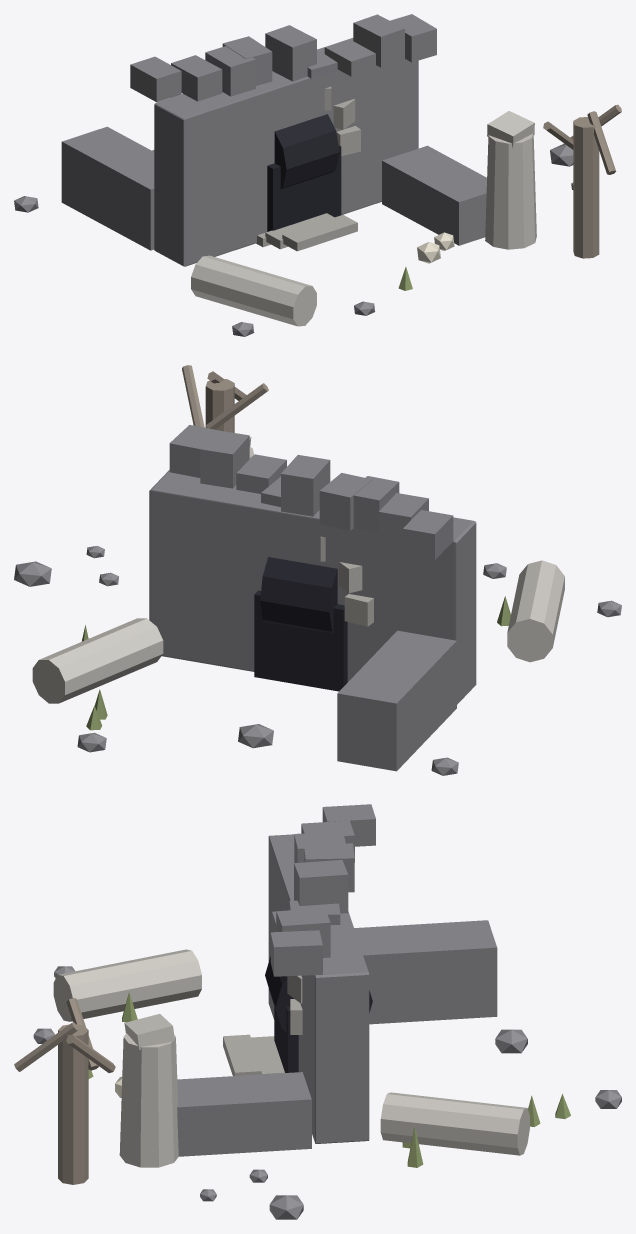
Rendered from dungeon.glb.
The picture shows the model from 3 angles, top to bottom: view 1: azimuth 30°, elevation 25°; view 2: azimuth 150°, elevation 25°; view 3: azimuth 270°, elevation 25°; orthographic projection. The views are drawn at different scales.
Parts seen in each view (by area): view 1: dg_wall, stub_L, stub_R, fcol0, bcol, dg_void_top, dead_trunk, dg_void, rag4, rag7, rag0, rag1 (+12 smaller); view 2: dg_wall, stub_L, fcol1, dg_void, dg_void_top, fcol0, rag4, rag7, rag0, rag3, rag2, rag8 (+9 smaller); view 3: dg_wall, stub_L, stub_R, fcol1, bcol, fcol0, dead_trunk, rag4, rag8, rag7, rag0, step0 (+11 smaller).
Part boxes in pixels (left/top/right/bottom): dg_wall: left=154, top=38, right=418, bottom=266; stub_L: left=61, top=126, right=154, bottom=250; stub_R: left=382, top=145, right=486, bottom=245; fcol0: left=191, top=255, right=316, bottom=326; bcol: left=485, top=134, right=536, bottom=249; dg_void_top: left=274, top=114, right=339, bottom=189; dead_trunk: left=573, top=117, right=599, bottom=258; dg_void: left=267, top=145, right=341, bottom=231; rag4: left=265, top=25, right=316, bottom=81; rag7: left=353, top=14, right=404, bottom=67; rag0: left=130, top=56, right=181, bottom=102; rag1: left=171, top=55, right=222, bottom=101; dg_wall: left=149, top=470, right=476, bottom=704; stub_L: left=337, top=630, right=456, bottom=771; fcol1: left=32, top=618, right=163, bottom=703; dg_void: left=254, top=590, right=347, bottom=691; dg_void_top: left=260, top=557, right=337, bottom=633; fcol0: left=507, top=560, right=564, bottom=662; rag4: left=281, top=455, right=330, bottom=516; rag7: left=200, top=430, right=249, bottom=488; rag0: left=403, top=510, right=453, bottom=559; rag3: left=319, top=473, right=372, bottom=530; rag2: left=353, top=476, right=399, bottom=532; rag8: left=169, top=425, right=216, bottom=477; dg_wall: left=268, top=834, right=369, bottom=1143; stub_L: left=354, top=920, right=497, bottom=1024; stub_R: left=177, top=1072, right=311, bottom=1156; fcol1: left=380, top=1092, right=529, bottom=1155; bcol: left=119, top=1033, right=178, bottom=1167; fcol0: left=53, top=949, right=201, bottom=1021; dead_trunk: left=58, top=1024, right=88, bottom=1184; rag4: left=294, top=860, right=348, bottom=913; rag8: left=270, top=930, right=322, bottom=976; rag7: left=276, top=908, right=330, bottom=957; rag0: left=322, top=804, right=375, bottom=846; step0: left=223, top=1034, right=261, bottom=1075.
Size of the model in its own units: 1.16 by 0.4222 by 1.11.
